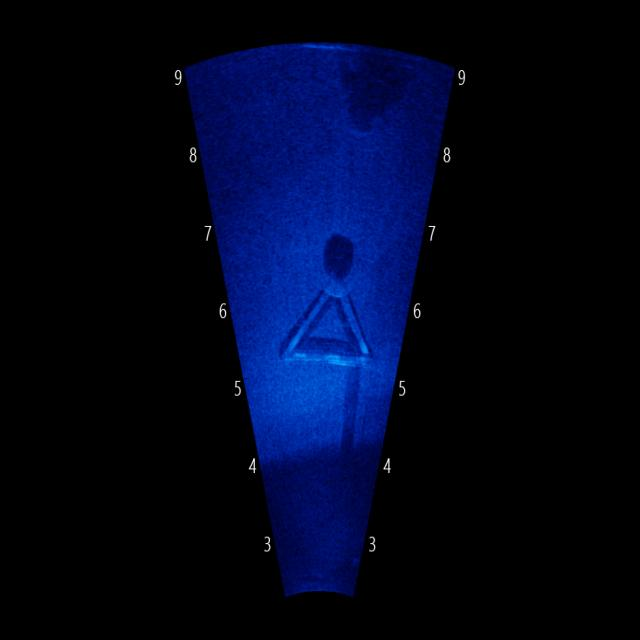triangle: (270, 242, 384, 393)
